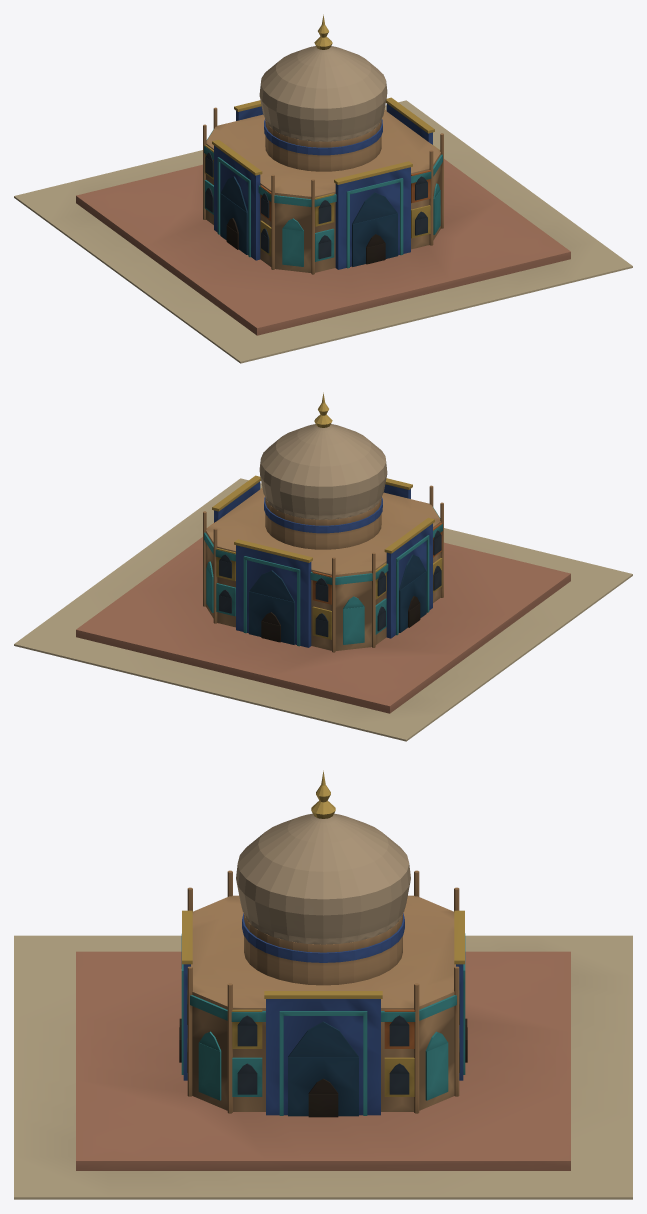
Rendered from chini-ka-rauza.glb.
3 views of the same model, one above another, from view 1: azimuth 30°, elevation 25°; view 2: azimuth 150°, elevation 25°; view 3: azimuth 270°, elevation 25° (orthographic). The views are drawn at different scales.
Visible parts, largest first — view 1: p0_terrace, p1_tiles, p2_dome; view 2: p0_terrace, p1_tiles, p2_dome; view 3: p0_terrace, p1_tiles, p2_dome.
Boxes of the visible parts, x1=… form: p0_terrace: x1=14, y1=100, x2=632, y2=363; p1_tiles: x1=203, y1=97, x2=443, y2=274; p2_dome: x1=259, y1=14, x2=387, y2=171; p0_terrace: x1=14, y1=478, x2=632, y2=741; p1_tiles: x1=203, y1=475, x2=443, y2=652; p2_dome: x1=259, y1=392, x2=387, y2=549; p0_terrace: x1=14, y1=895, x2=632, y2=1199; p1_tiles: x1=179, y1=870, x2=467, y2=1117; p2_dome: x1=236, y1=770, x2=410, y2=985.
Size of the model in its own units: 70 by 37.28 by 70.
